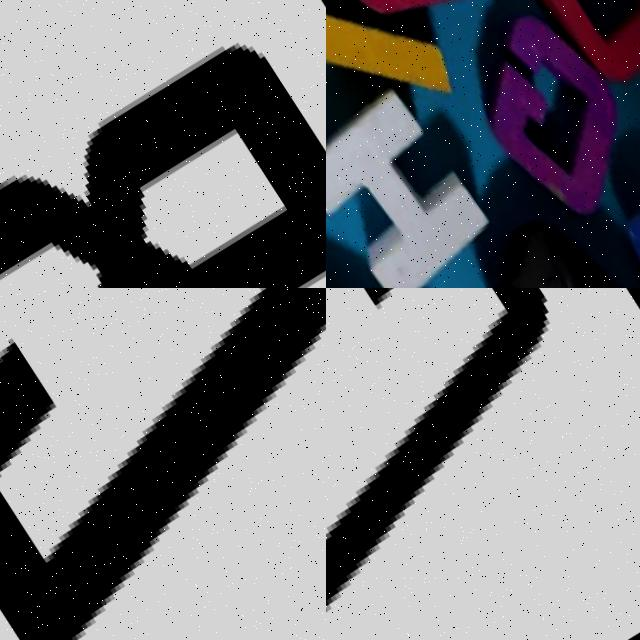8: (0, 5, 326, 288)
C: (0, 288, 326, 640), (326, 288, 547, 611)
G: (444, 0, 640, 237)
H: (326, 63, 521, 288)
L: (326, 0, 461, 144)
M: (326, 225, 519, 288)
O: (515, 0, 640, 88)
